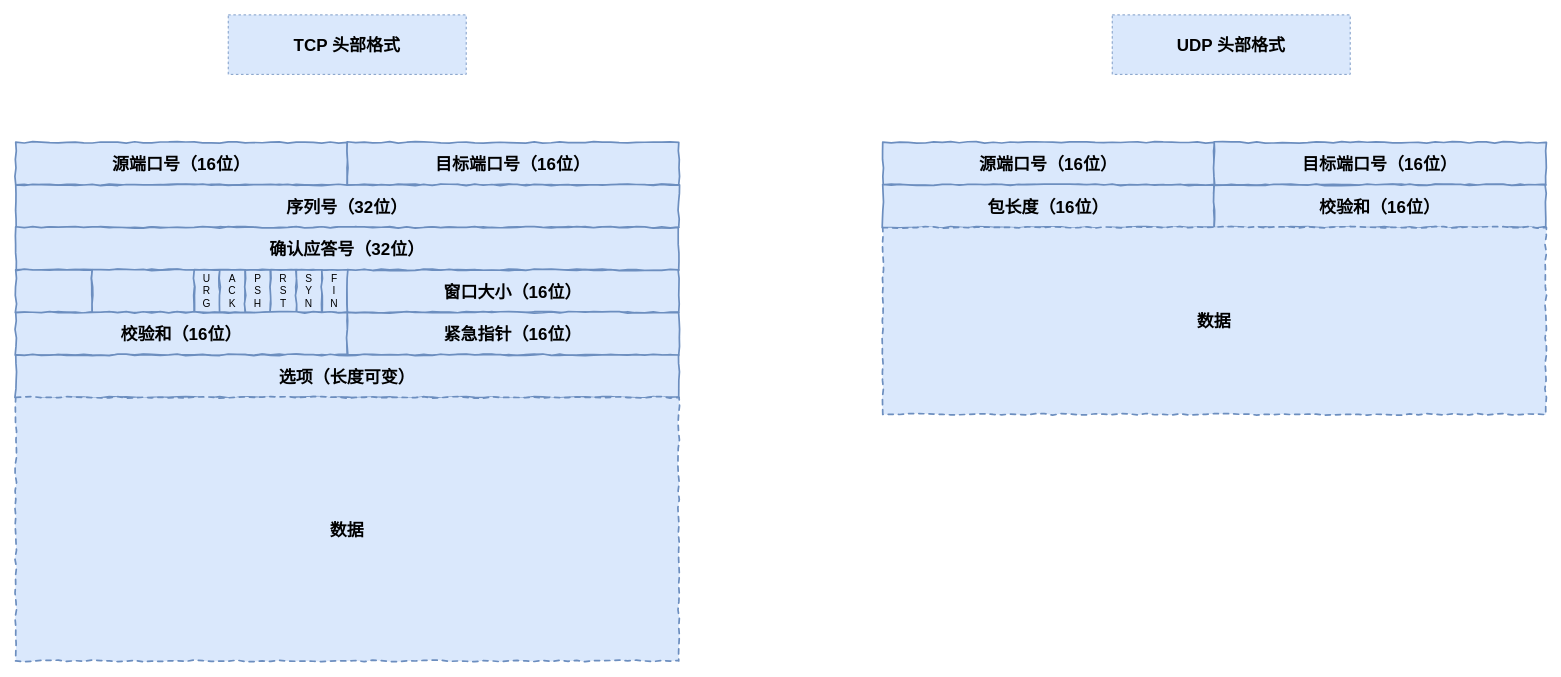
Image size: 1561x677. Some labels were removed from this diagram. The centre of each missing label's shape, as x and y in pixels:
保留（6位）: the point at 143,291
首部长度（4位）: the point at 53,291
